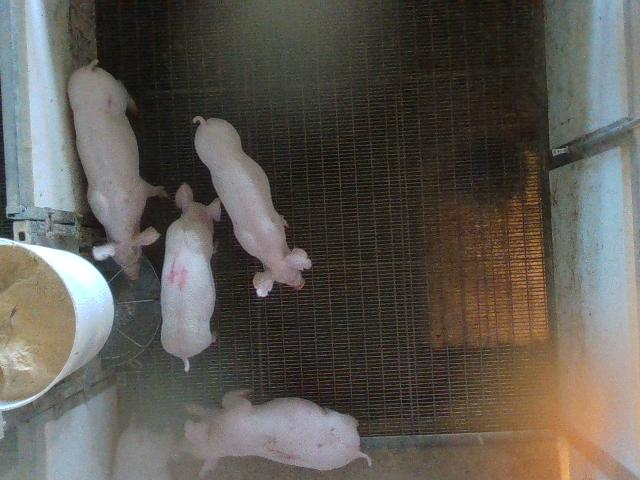pig-1: (185, 390, 371, 477)
pig-4: (161, 184, 221, 371)
